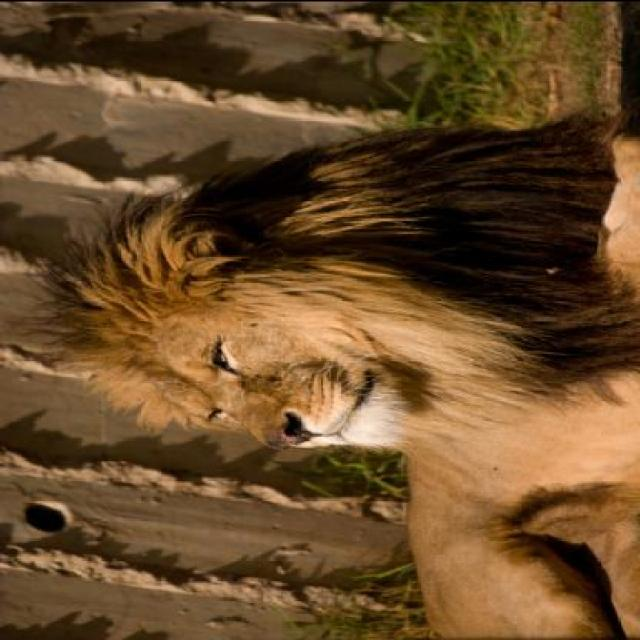Lion: (31, 82, 638, 636)
